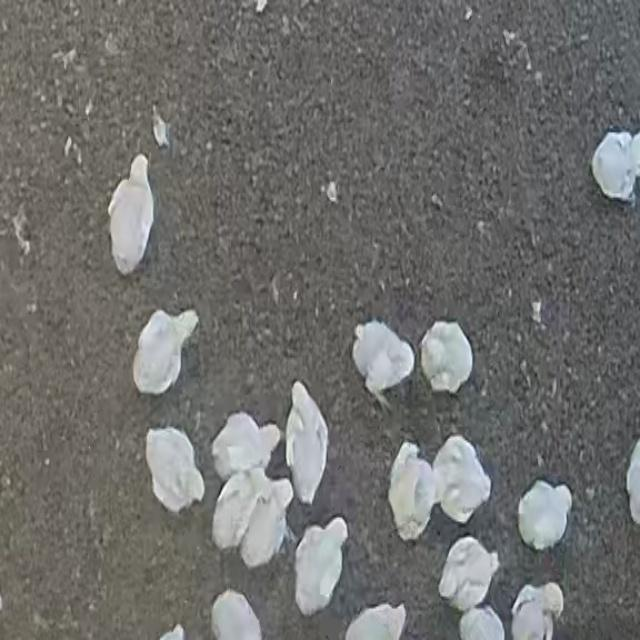chicken: (106, 152, 155, 276), (284, 380, 330, 506), (345, 323, 415, 405), (132, 309, 196, 396), (293, 519, 348, 617), (144, 427, 204, 514), (432, 437, 492, 523), (210, 411, 282, 481), (438, 535, 502, 612), (388, 442, 438, 540), (240, 482, 293, 570), (210, 471, 266, 551), (517, 480, 573, 551), (423, 321, 474, 397), (591, 133, 640, 201), (508, 581, 562, 640), (210, 590, 267, 640), (342, 601, 407, 640), (460, 608, 502, 640)
